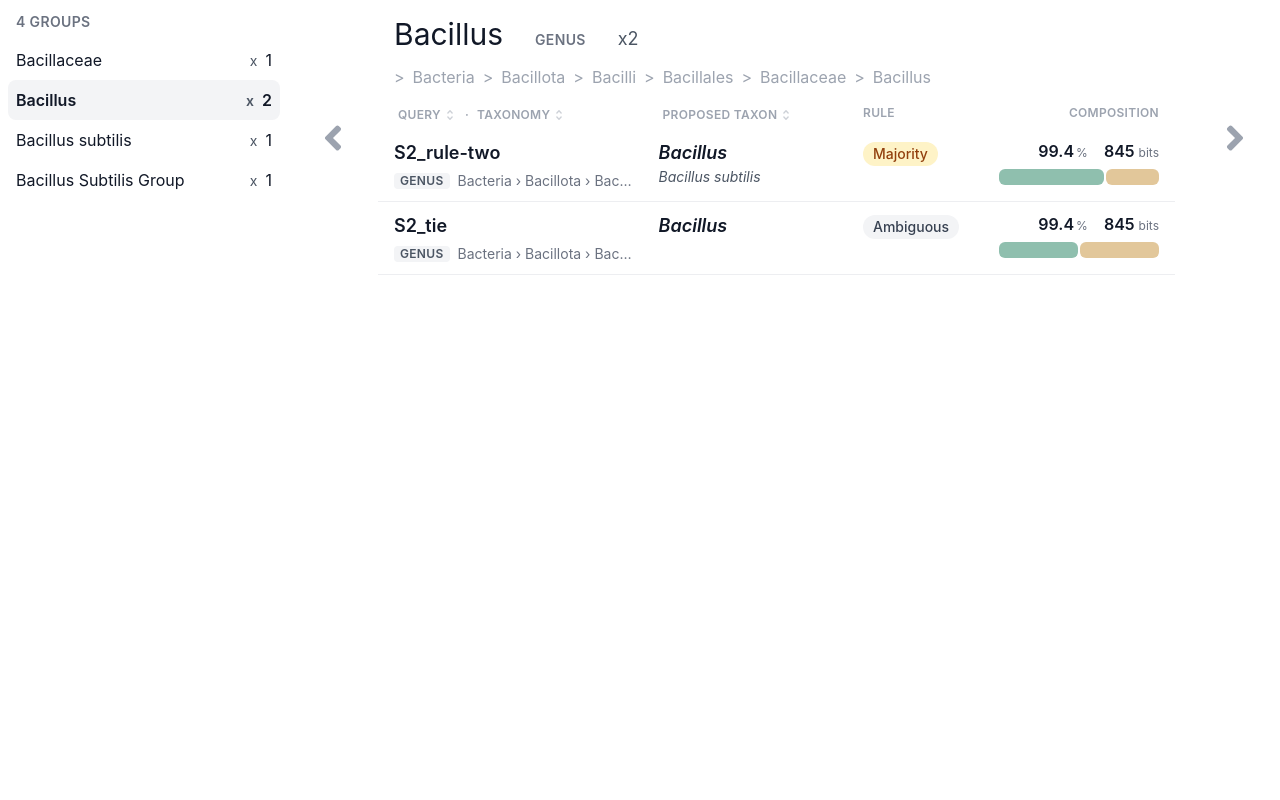
Test: GroupedByTaxonomyView/Grouped › ArrowRight does not navigate while the consensus modal is open
Later steps or results of the test are not shown.
Click the button "S2_rule-two" at (447, 153), box [394,139,500,167]
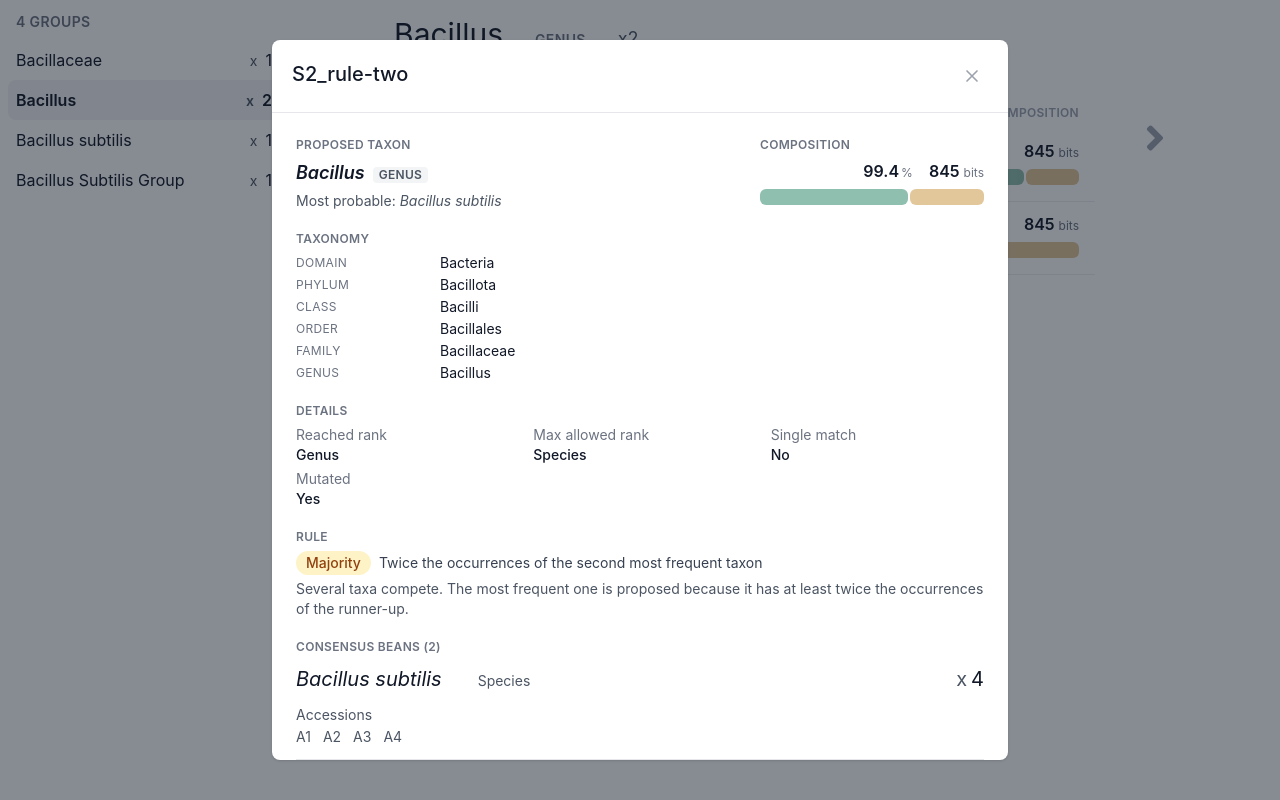
Now the dialog is shown, box [256,24,1024,776]
